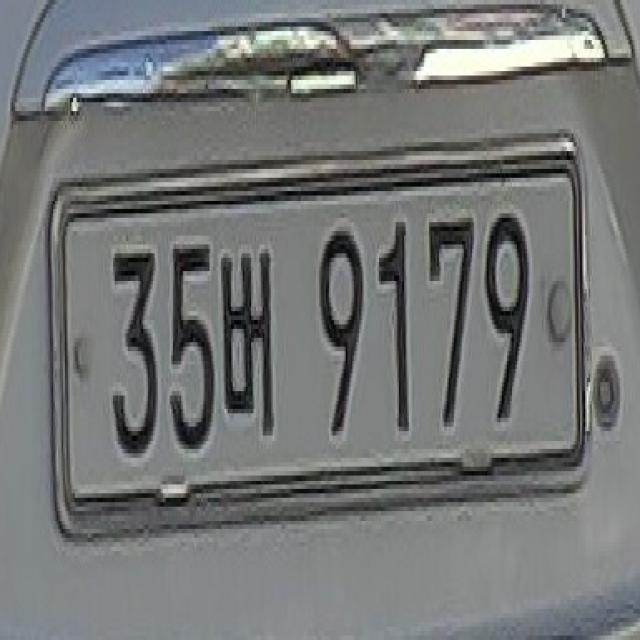plat: (49, 135, 590, 538)
